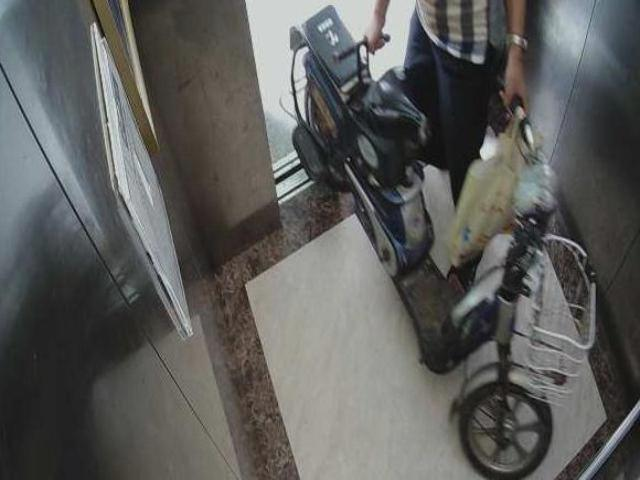emotor: (279, 33, 586, 480)
